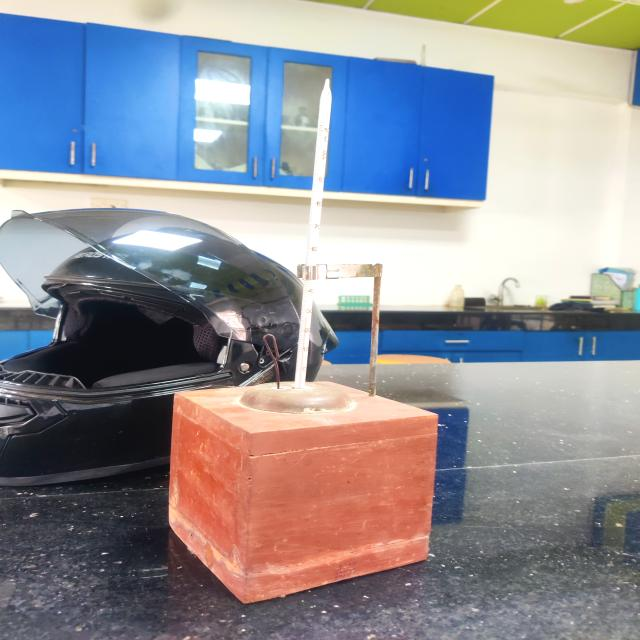Calorimeter: (139, 64, 482, 630)
